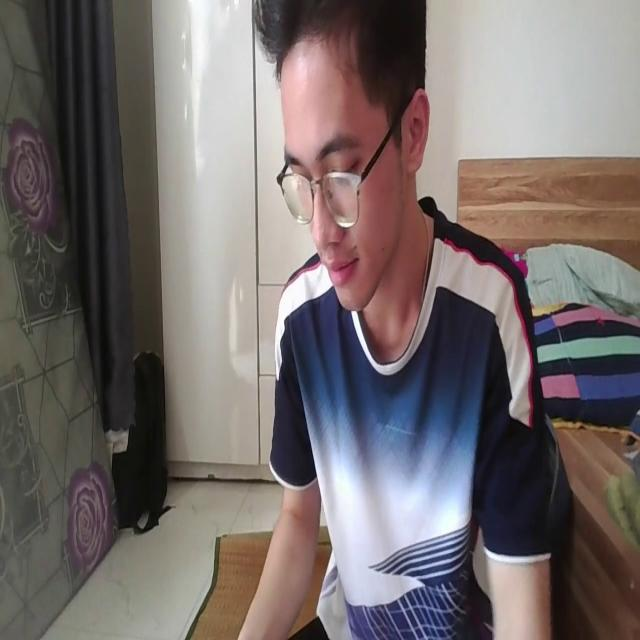student: (238, 0, 552, 640)
